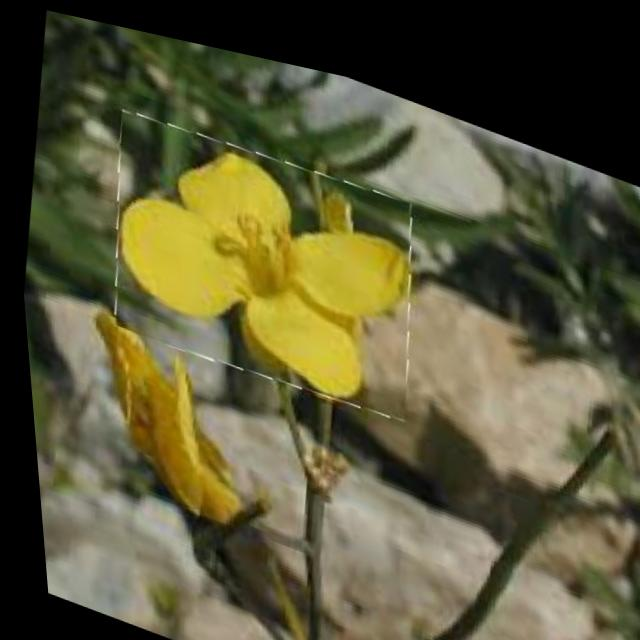Flower: (87, 88, 432, 422)
